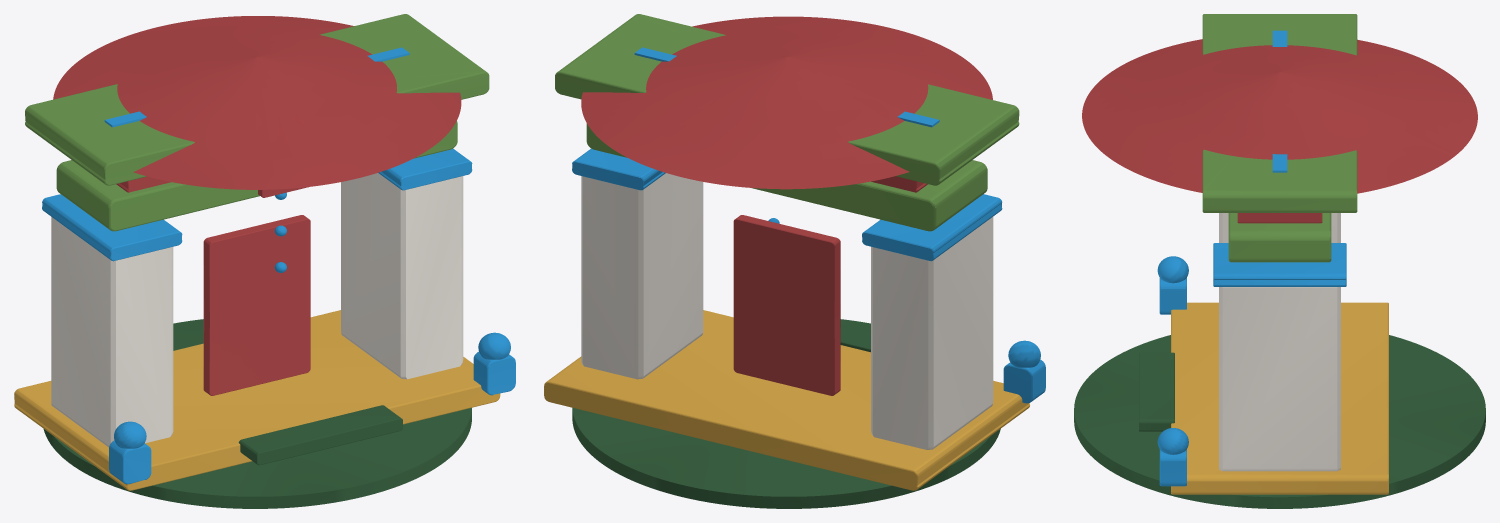
The model's file is 1183_唐图鉴_含光门.glb.
The picture shows the model from 3 angles, left to right: view 1: azimuth 30°, elevation 25°; view 2: azimuth 150°, elevation 25°; view 3: azimuth 270°, elevation 25°; orthographic projection. The views are drawn at different scales.
Parts seen in each view (by area): view 1: card_1183; view 2: card_1183; view 3: card_1183.
Part boxes in pixels (x1,y1,x2,y2): card_1183: [14, 14, 515, 508]; card_1183: [544, 14, 1045, 508]; card_1183: [1074, 14, 1485, 508].
Size of the model in its own units: 1.14 by 1 by 1.07.
